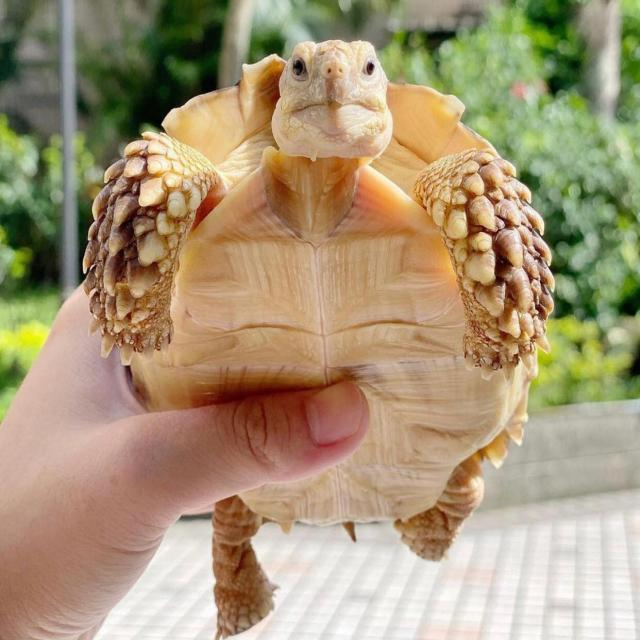Turtle: (102, 41, 542, 640)
